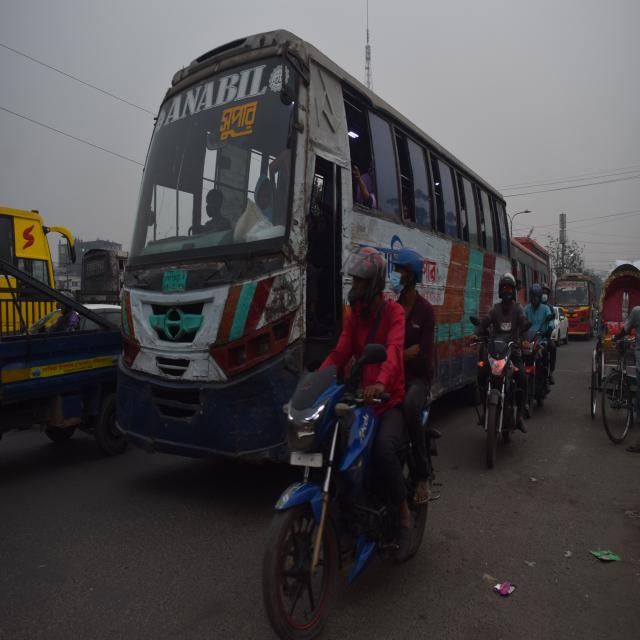bus: (124, 44, 509, 458), (556, 266, 596, 338)
motorbike: (249, 338, 446, 626), (462, 305, 529, 468), (525, 298, 566, 396)
pickup-van: (0, 273, 124, 496)
